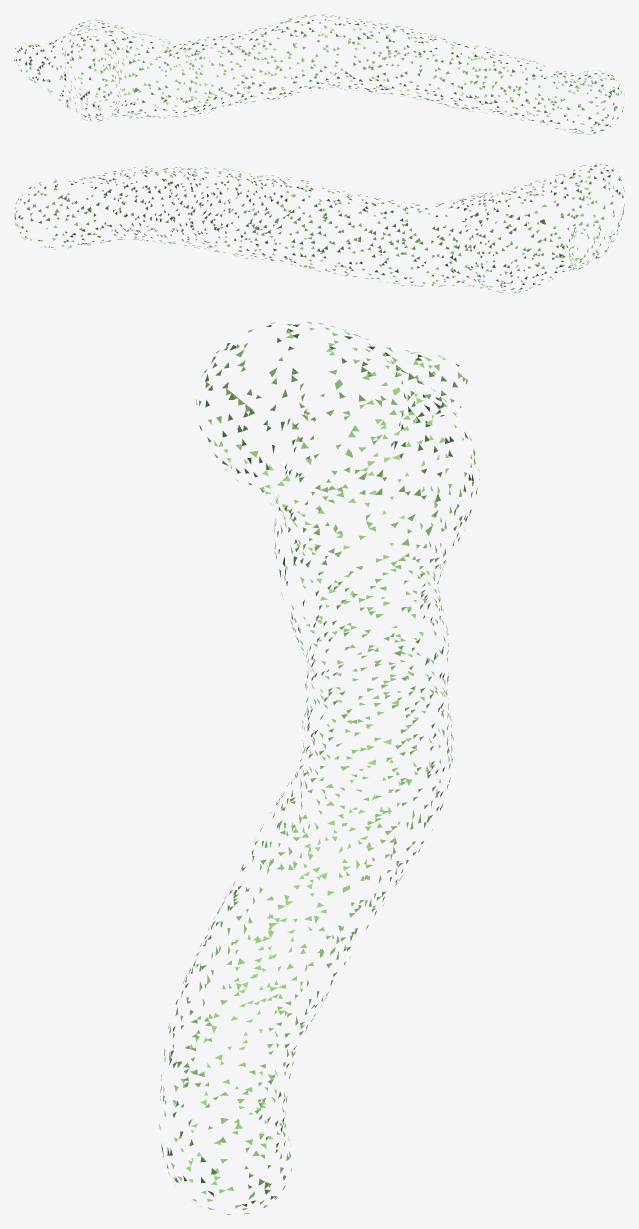
File: morph_014.glb
The picture shows the model from 3 angles, top to bottom: view 1: azimuth 30°, elevation 25°; view 2: azimuth 150°, elevation 25°; view 3: azimuth 270°, elevation 25°; orthographic projection. The views are drawn at different scales.
Bounding box in the file's own units: 118 × 40.95 × 29.46.
